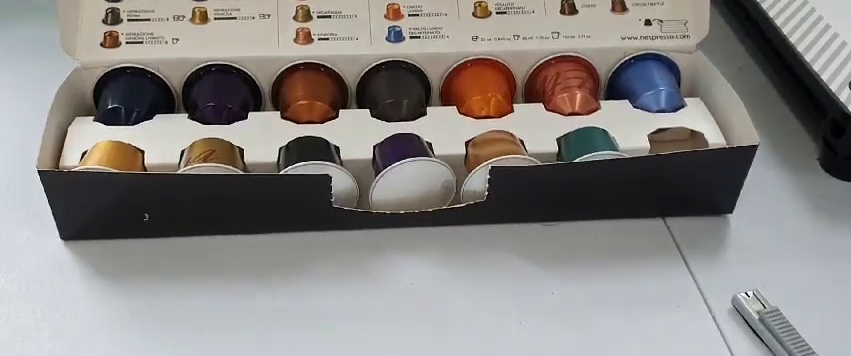capsule_1: (88, 64, 176, 130)
capsule_10: (268, 134, 362, 209)
capsule_11: (362, 133, 457, 211)
capsule_12: (456, 130, 545, 204)
capsule_13: (552, 128, 629, 176)
capsule_2: (181, 62, 265, 125)
capsule_3: (270, 60, 355, 128)
capsule_4: (353, 54, 436, 123)
capsule_5: (441, 56, 524, 120)
capsule_6: (519, 49, 605, 119)
capsule_7: (605, 48, 693, 118)
capsule_8: (73, 140, 149, 182)
capsule_9: (172, 135, 252, 184)
